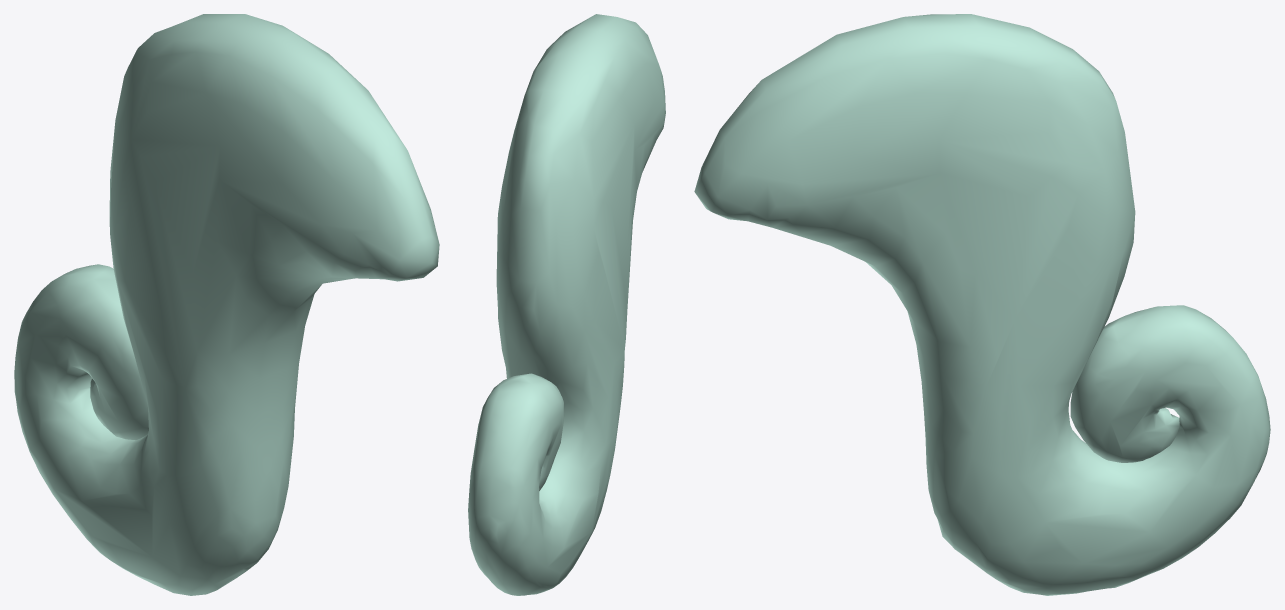
The model's file is Tail_16.fbx.
The picture shows the model from 3 angles, left to right: view 1: azimuth 30°, elevation 25°; view 2: azimuth 150°, elevation 25°; view 3: azimuth 270°, elevation 25°; orthographic projection. The views are drawn at different scales.
Parts seen in each view (by area): view 1: Tail_16; view 2: Tail_16; view 3: Tail_16.
Part boxes in pixels (left/top/right/bottom): Tail_16: left=14, top=14, right=439, bottom=595; Tail_16: left=468, top=14, right=665, bottom=595; Tail_16: left=694, top=14, right=1270, bottom=595.
Size of the model in its own units: 57 by 196 by 176.
